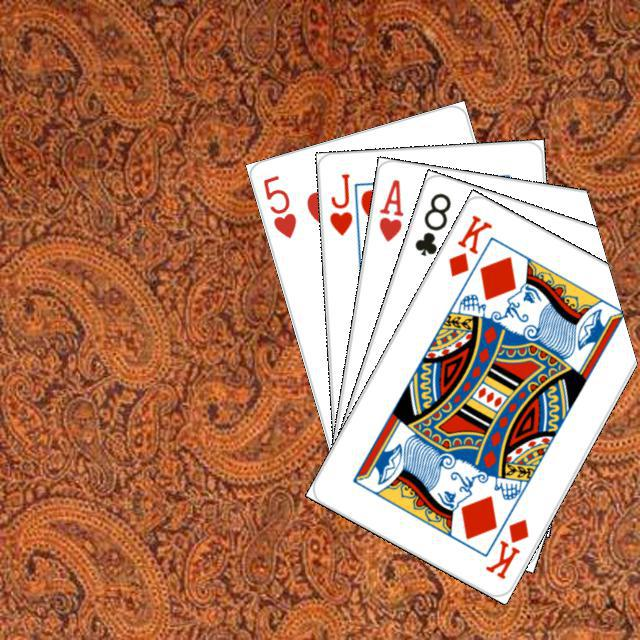5h: (258, 170, 298, 241)
8c: (409, 187, 453, 258)
Ah: (373, 174, 405, 244)
Jh: (324, 168, 354, 238)
Kd: (443, 209, 494, 279), (480, 514, 531, 582)
